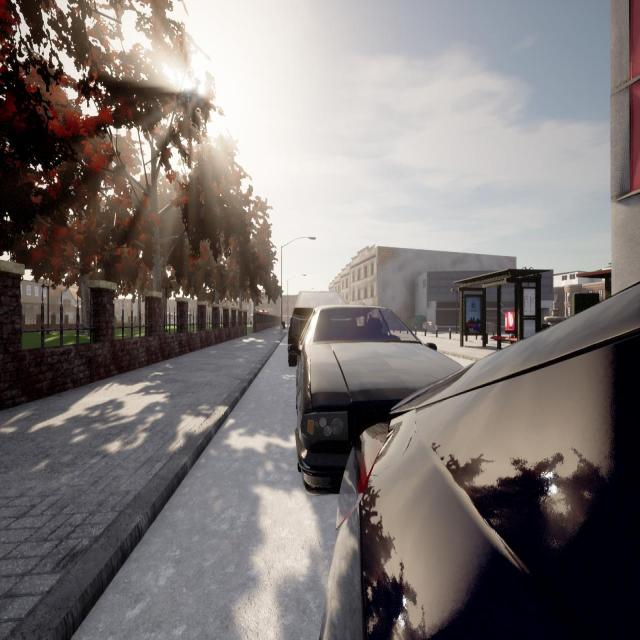Vehicle: (321, 284, 639, 638), (293, 305, 466, 492), (288, 292, 348, 368)
